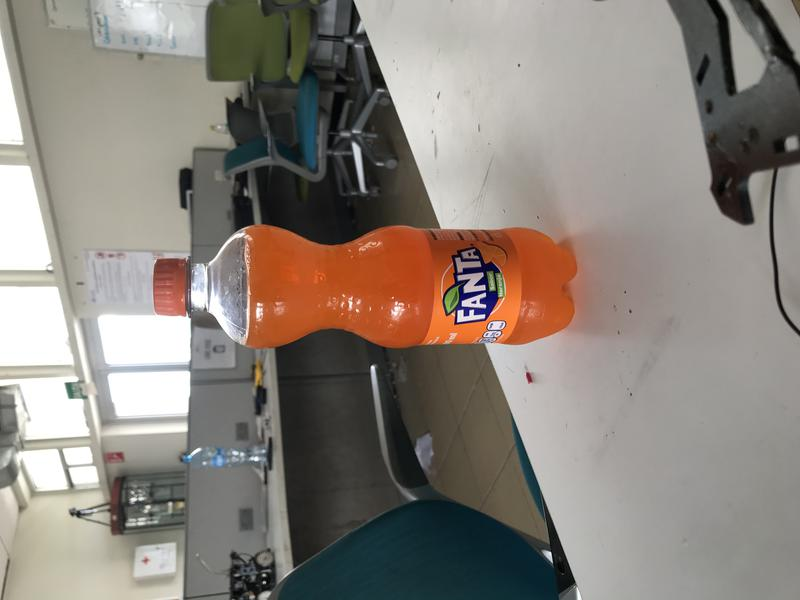fanta: (153, 225, 577, 351)
